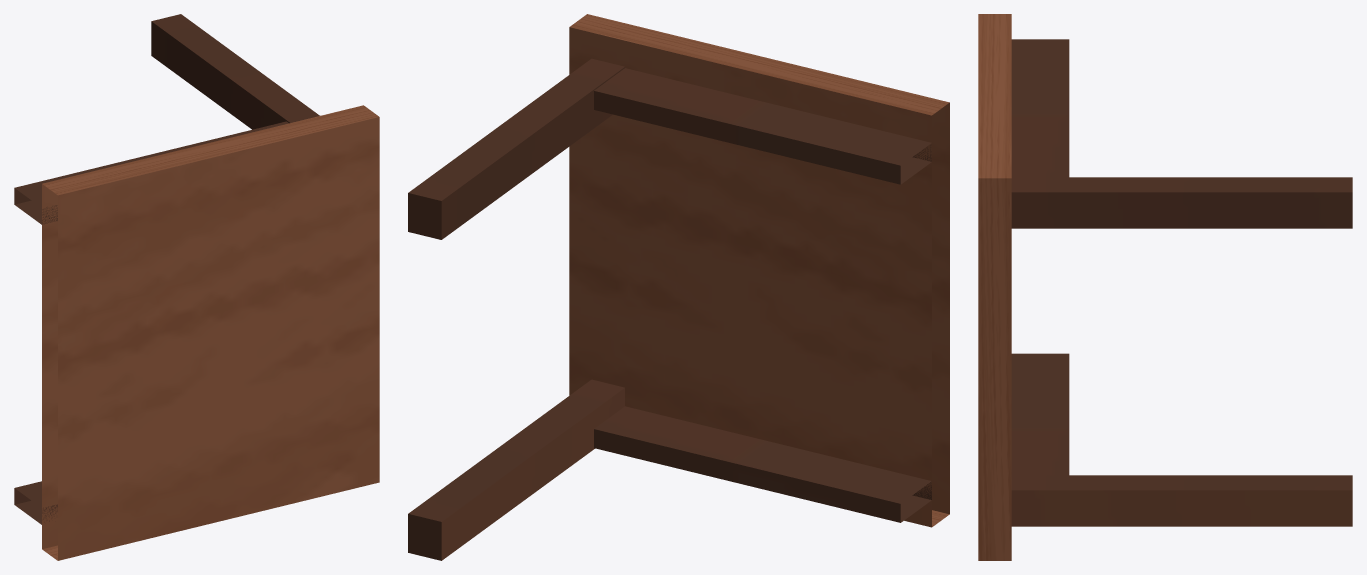
The model's file is pz_table_tables_high_01_large_dark_oak_1_0.obj.
The picture shows the model from 3 angles, left to right: view 1: azimuth 30°, elevation 25°; view 2: azimuth 150°, elevation 25°; view 3: azimuth 270°, elevation 25°; orthographic projection. The views are drawn at different scales.
Bounding box in the file's own units: 0.875 × 0.95 × 0.842.
Materials: 1 (1 with a texture image).
